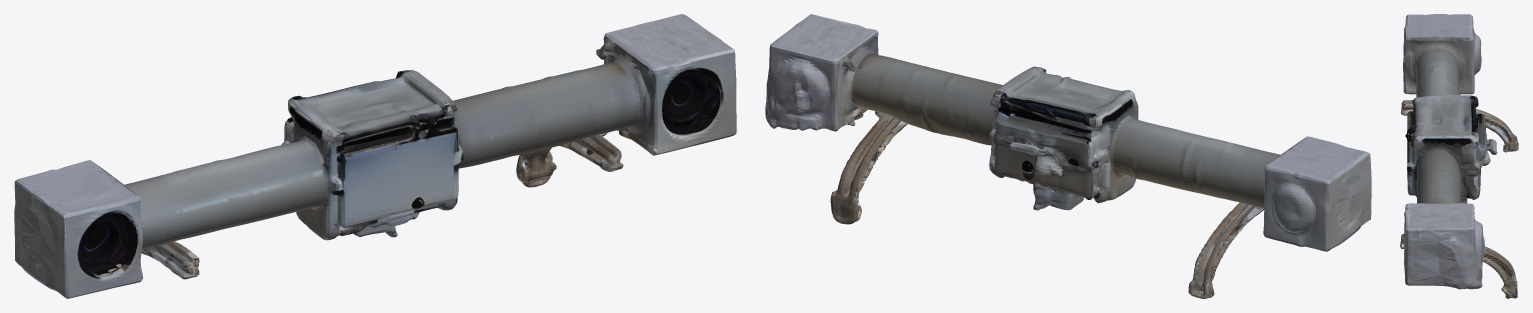
3 renders of one model, left to right at view 1: azimuth 30°, elevation 25°; view 2: azimuth 150°, elevation 25°; view 3: azimuth 270°, elevation 25°, orthographic. The views are drawn at different scales.
Parts seen in each view (by area): view 1: textured_mesh.obj; view 2: textured_mesh.obj; view 3: textured_mesh.obj.
Part boxes in pixels (bbox=[...]): textured_mesh.obj: bbox=[14, 14, 736, 298]; textured_mesh.obj: bbox=[765, 14, 1371, 298]; textured_mesh.obj: bbox=[1400, 14, 1518, 298].
Size of the model in its own units: 1.92 by 0.4664 by 0.4388.
1 material, 1 textured.
